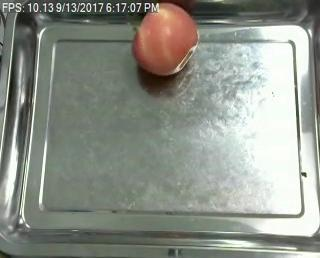apple: (132, 11, 200, 76)
